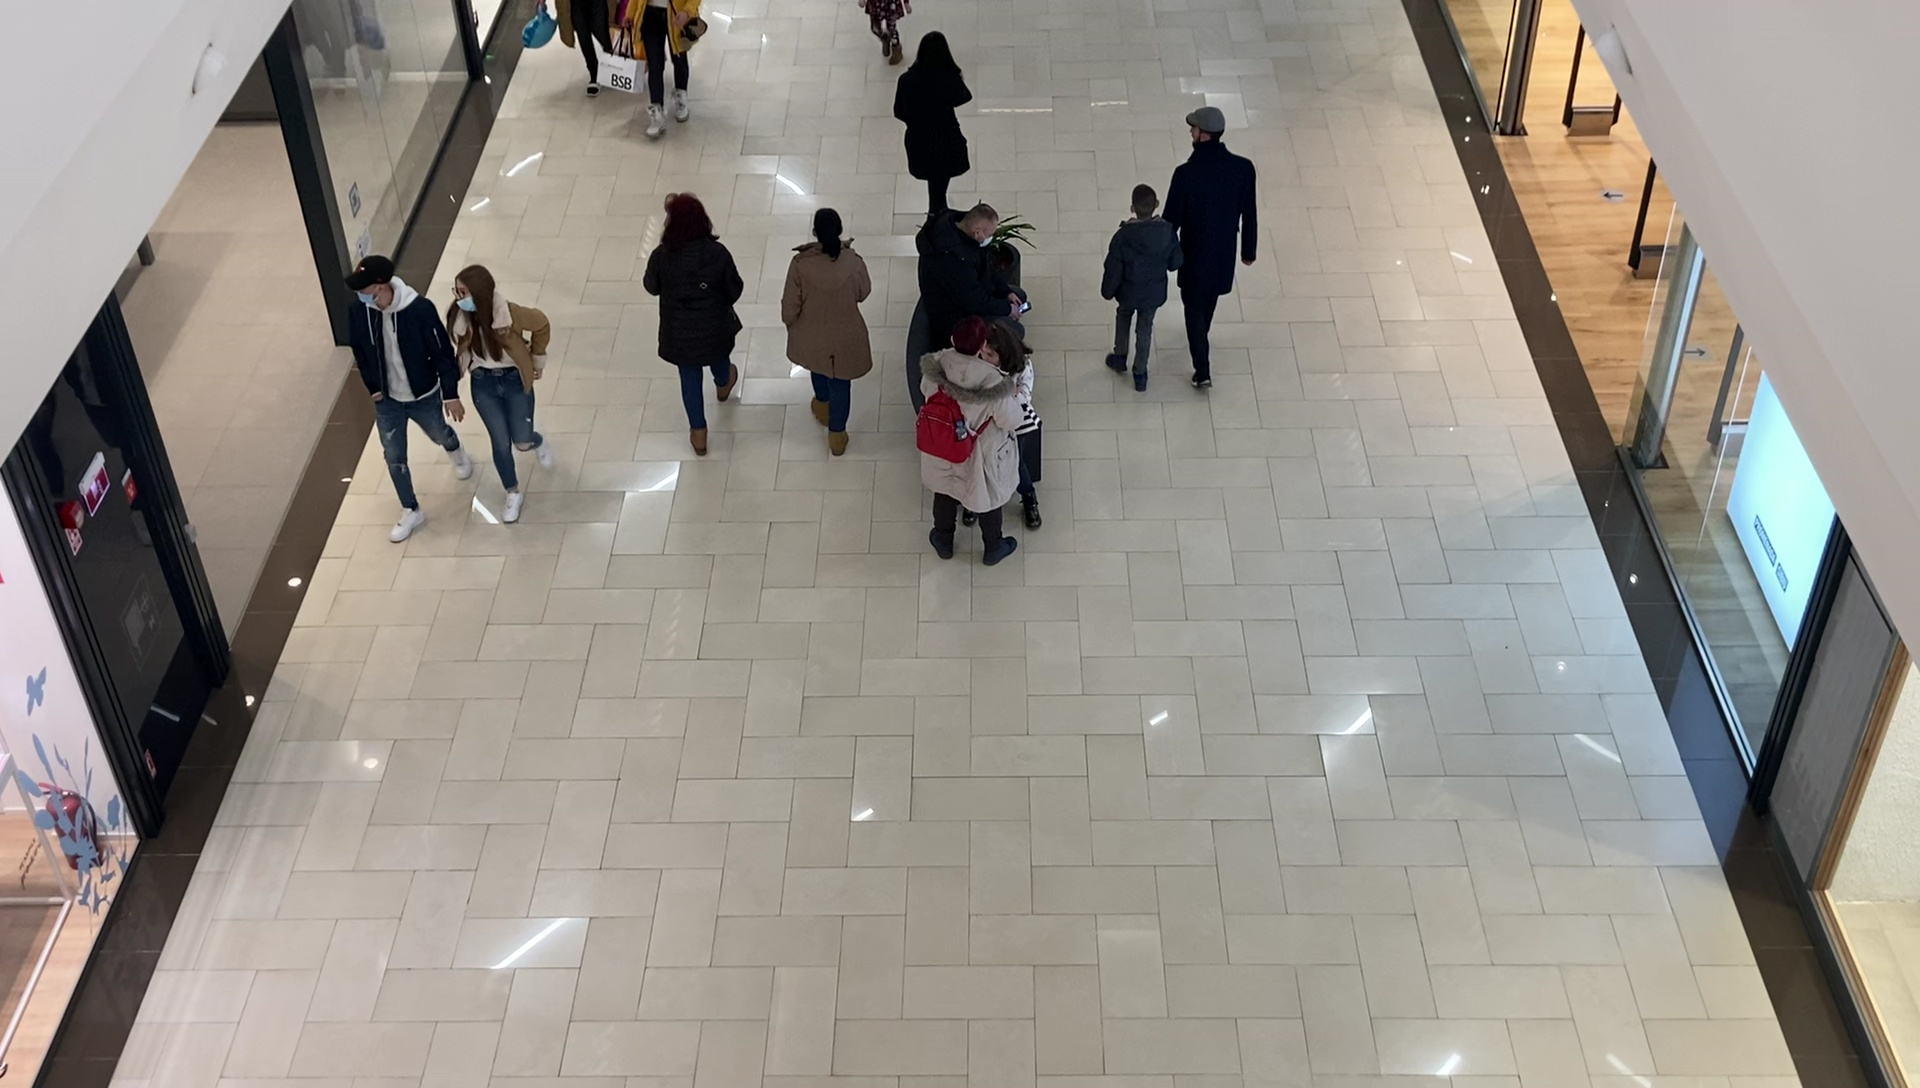person: (345, 256, 453, 542), (448, 264, 558, 525), (644, 195, 745, 458), (1166, 109, 1258, 390), (784, 206, 875, 455), (1103, 184, 1184, 390), (895, 31, 975, 216)
